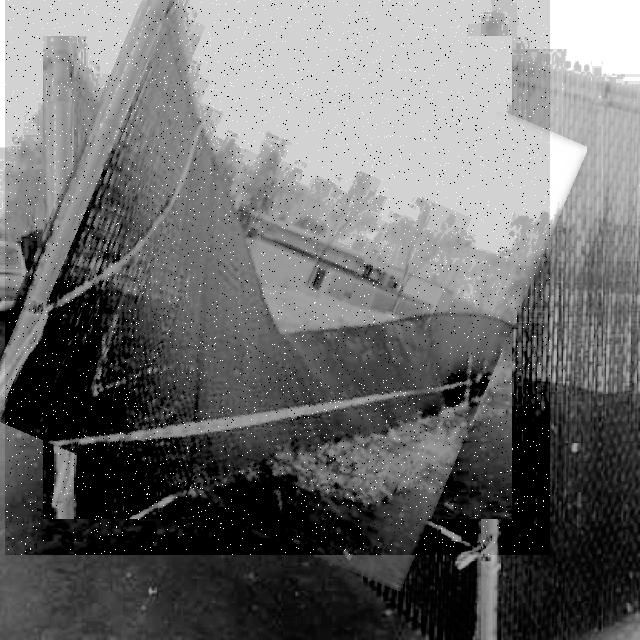anomaly-fence: (5, 0, 550, 555)
